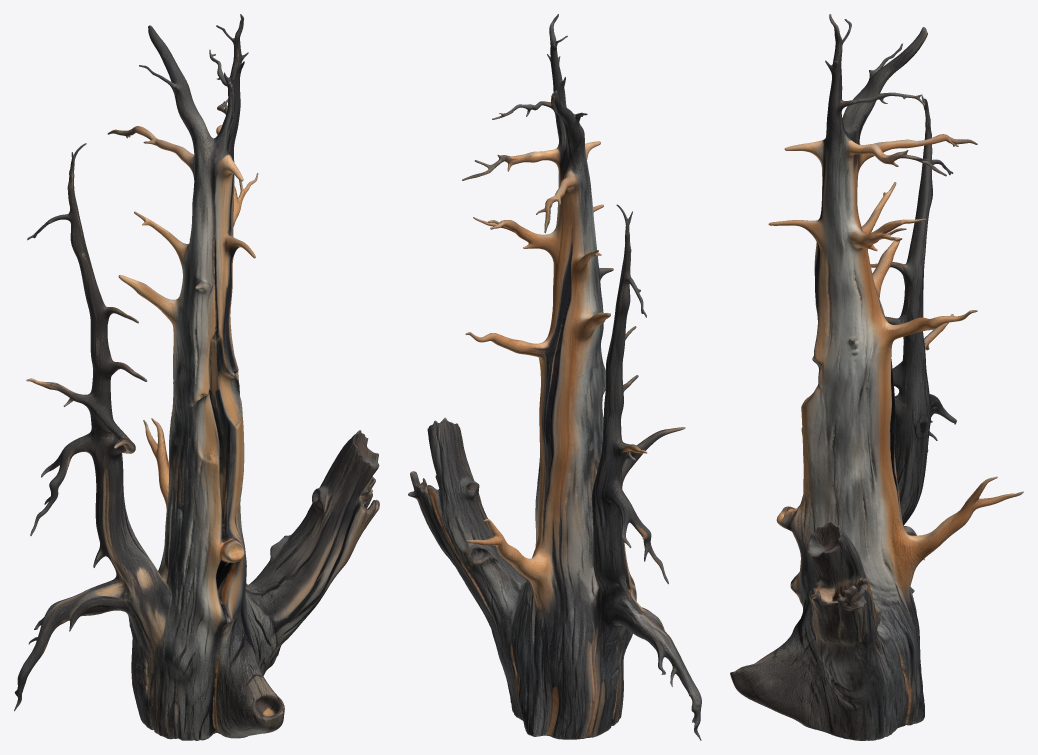
The model's file is split_snag.glb.
3 views of the same model, side by side, from view 1: azimuth 30°, elevation 25°; view 2: azimuth 150°, elevation 25°; view 3: azimuth 270°, elevation 25° (orthographic). The views are drawn at different scales.
Bounding box in the file's own units: 0.9235 × 1.9 × 0.7079.
Materials: 1 (1 with a texture image).
